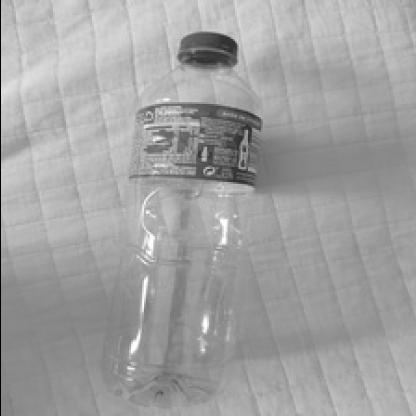plastic_bottles: (103, 27, 264, 416)
